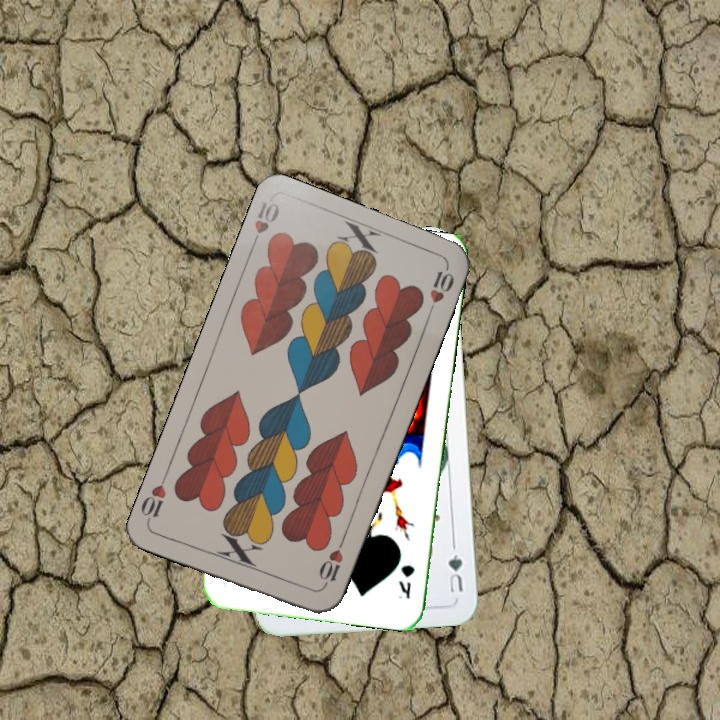GK: (395, 560, 417, 601)
GU: (444, 550, 466, 597)
H10: (246, 197, 282, 253), (315, 535, 347, 592)
